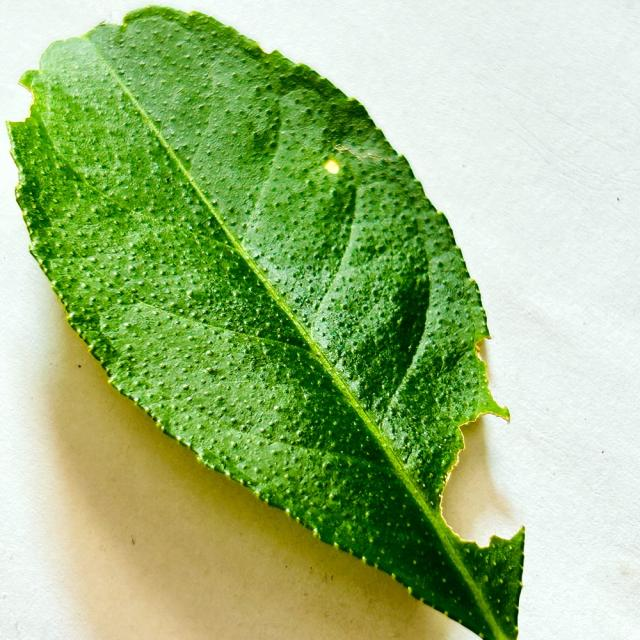Deficiency Leaf: (442, 415, 524, 545), (472, 336, 510, 422)
Lemon: (8, 6, 524, 639)
